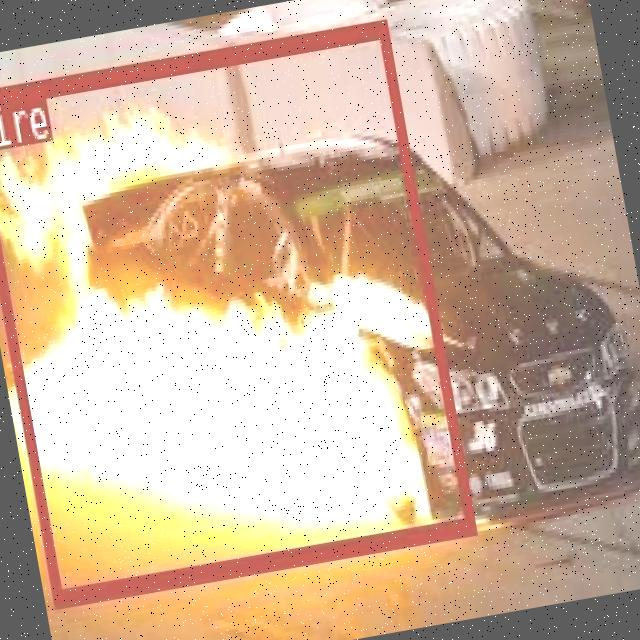fire: (0, 17, 473, 603)
